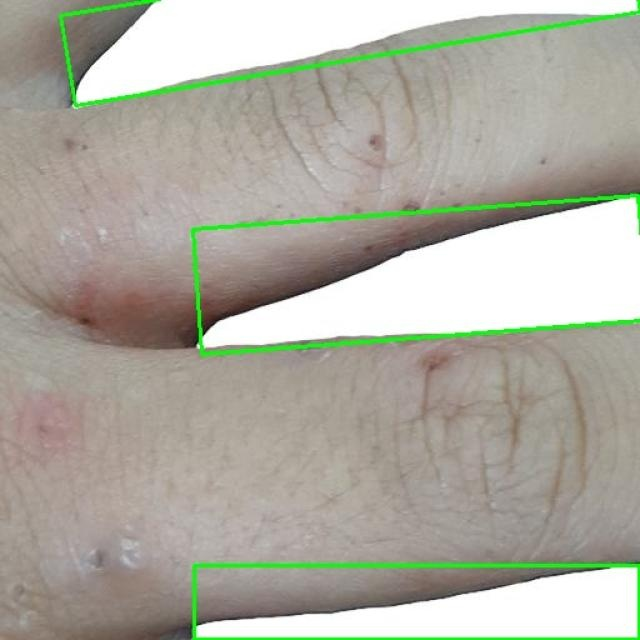Scabies: (193, 196, 640, 354), (60, 0, 640, 106), (194, 565, 639, 639)
